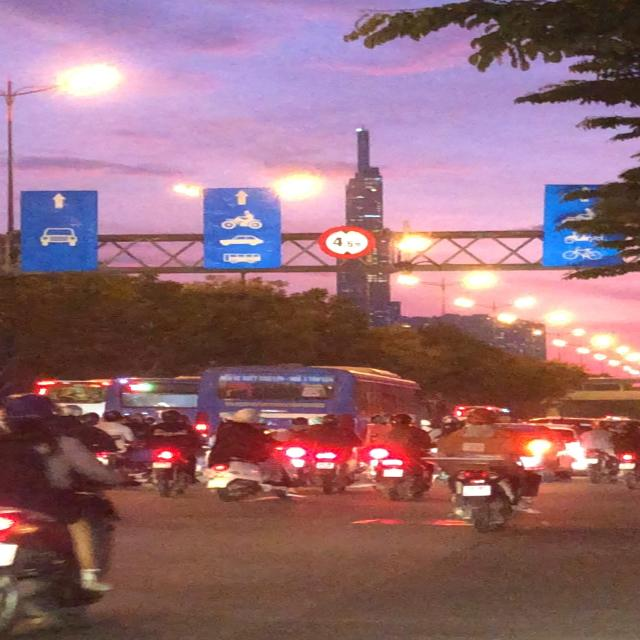Bien bao han che chieu cao: (318, 222, 379, 261)
